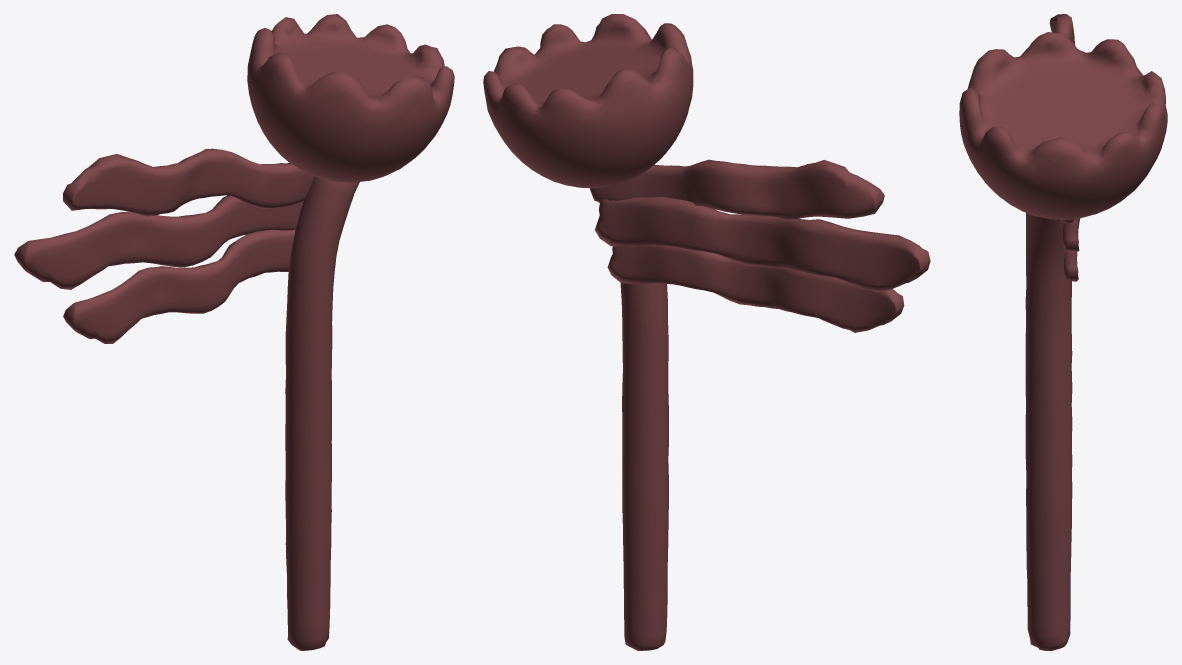
File: flag.fbx
3 views of the same model, side by side, from view 1: azimuth 30°, elevation 25°; view 2: azimuth 150°, elevation 25°; view 3: azimuth 270°, elevation 25° (orthographic).
Parts seen in each view (by area): view 1: pSphere2; view 2: pSphere2; view 3: pSphere2.
Boxes of the visible parts, x1,y1,x2,y2 form: pSphere2: [14, 14, 454, 650]; pSphere2: [483, 14, 930, 650]; pSphere2: [959, 14, 1167, 650].
Size of the model in its own units: 0.3818 by 0.5189 by 0.1625.
